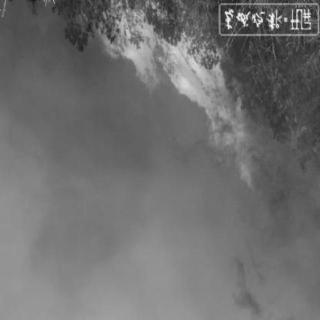Fire: (79, 0, 297, 205)
